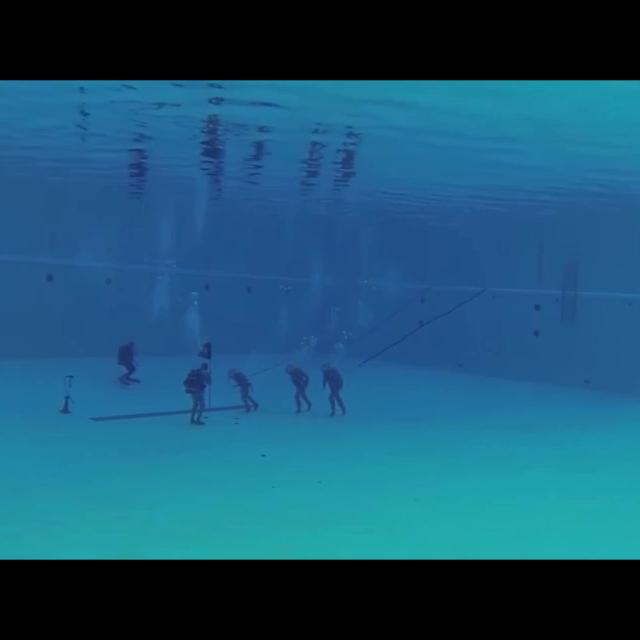human: (176, 355, 216, 431), (279, 355, 317, 420), (315, 355, 350, 423), (225, 362, 261, 421), (114, 335, 145, 394)
